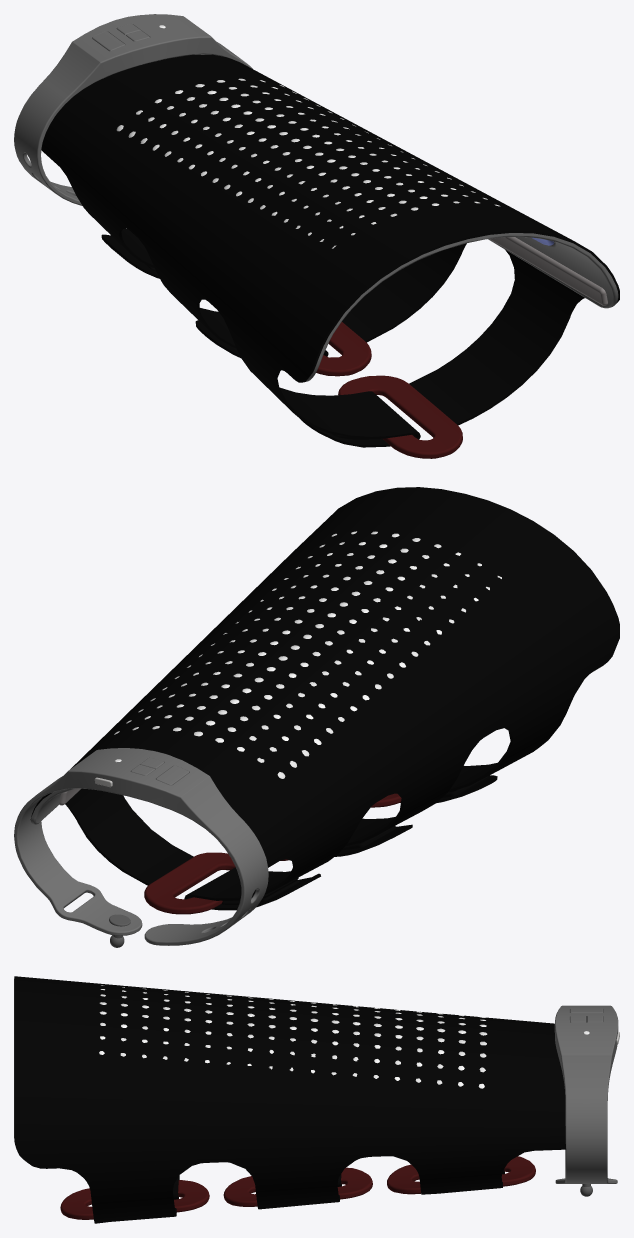
File: beresta.glb
3 views of the same model, one above another, from view 1: azimuth 30°, elevation 25°; view 2: azimuth 150°, elevation 25°; view 3: azimuth 270°, elevation 25° (orthographic). The views are drawn at different scales.
Visible parts, largest first — view 1: Body2, Body4, Body5, Body7, Body1; view 2: Body2, Body4, Body7, Body5; view 3: Body2, Body4, Body5, Body7.
Boxes of the visible parts, box(x1,y1,x2,y2) form: Body2: box(41, 54, 619, 447); Body4: box(14, 14, 618, 382); Body5: box(316, 322, 462, 458); Body7: box(116, 25, 500, 248); Body1: box(489, 237, 607, 305); Body2: box(30, 487, 619, 910); Body4: box(14, 748, 268, 945); Body7: box(114, 531, 501, 778); Body5: box(144, 793, 401, 914); Body2: box(14, 976, 566, 1223); Body4: box(14, 979, 618, 1183); Body5: box(60, 1156, 535, 1219); Body7: box(99, 983, 589, 1088).
Bounding box in the file's own units: 150 × 111 × 286.
